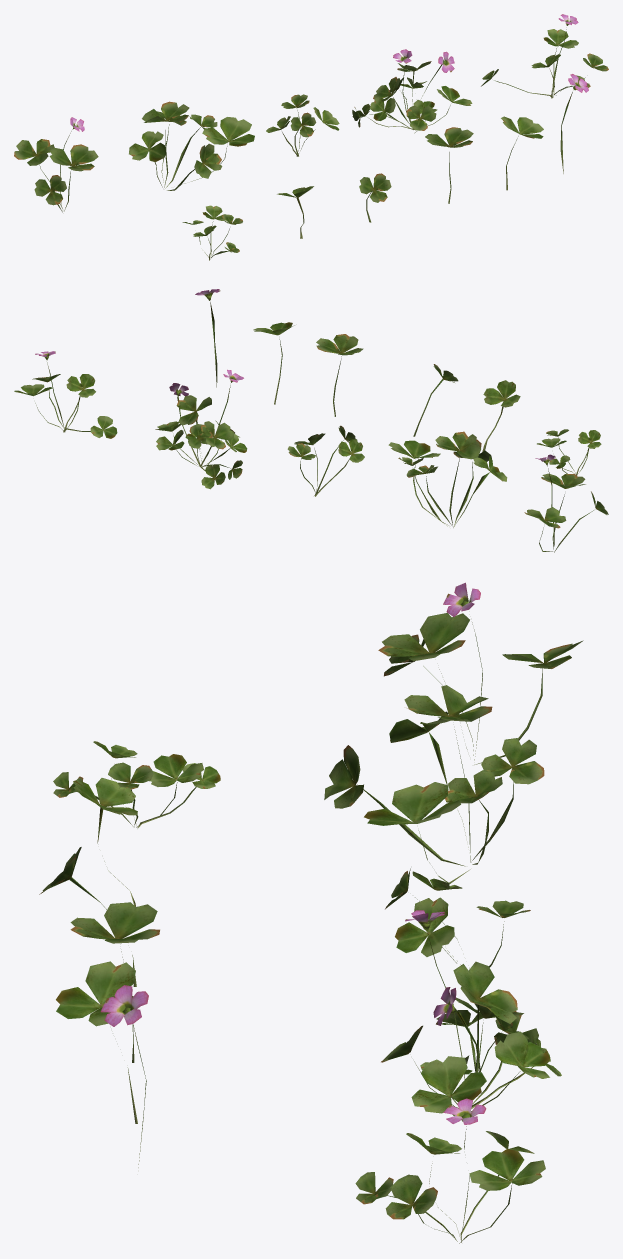
Rendered from shrub.glb.
The picture shows the model from 3 angles, top to bottom: view 1: azimuth 30°, elevation 25°; view 2: azimuth 150°, elevation 25°; view 3: azimuth 270°, elevation 25°; orthographic projection. The views are drawn at different scales.
Visible parts, largest first — view 1: shrub_sorrel_01_b, shrub_sorrel_01_d, shrub_sorrel_01_a, shrub_sorrel_01_e, shrub_sorrel_01_c, shrub_sorrel_01_f, shrub_sorrel_01_i, shrub_sorrel_01_h, shrub_sorrel_01_j, shrub_sorrel_01_k; view 2: shrub_sorrel_01_d, shrub_sorrel_01_b, shrub_sorrel_01_e, shrub_sorrel_01_a, shrub_sorrel_01_c, shrub_sorrel_01_f, shrub_sorrel_01_i, shrub_sorrel_01_g, shrub_sorrel_01_j; view 3: shrub_sorrel_01_b, shrub_sorrel_01_d, shrub_sorrel_01_e, shrub_sorrel_01_a, shrub_sorrel_01_f, shrub_sorrel_01_c, shrub_sorrel_01_j, shrub_sorrel_01_i, shrub_sorrel_01_g, shrub_sorrel_01_k.
Part boxes in pixels (<box>): shrub_sorrel_01_b: <box>129,101,254,190</box>; shrub_sorrel_01_d: <box>352,49,472,133</box>; shrub_sorrel_01_a: <box>14,117,98,212</box>; shrub_sorrel_01_e: <box>481,14,608,98</box>; shrub_sorrel_01_c: <box>266,94,339,156</box>; shrub_sorrel_01_f: <box>182,205,242,260</box>; shrub_sorrel_01_i: <box>425,127,473,203</box>; shrub_sorrel_01_h: <box>359,173,391,222</box>; shrub_sorrel_01_j: <box>501,116,543,190</box>; shrub_sorrel_01_k: <box>560,74,588,173</box>; shrub_sorrel_01_d: <box>155,369,247,489</box>; shrub_sorrel_01_b: <box>388,431,507,527</box>; shrub_sorrel_01_e: <box>14,351,117,438</box>; shrub_sorrel_01_a: <box>524,454,608,552</box>; shrub_sorrel_01_c: <box>287,425,364,496</box>; shrub_sorrel_01_f: <box>537,429,601,475</box>; shrub_sorrel_01_i: <box>316,334,363,416</box>; shrub_sorrel_01_g: <box>482,380,520,451</box>; shrub_sorrel_01_j: <box>253,322,294,404</box>; shrub_sorrel_01_b: <box>324,685,544,884</box>; shrub_sorrel_01_d: <box>381,910,561,1115</box>; shrub_sorrel_01_e: <box>355,1098,545,1243</box>; shrub_sorrel_01_a: <box>378,582,583,764</box>; shrub_sorrel_01_f: <box>53,741,220,828</box>; shrub_sorrel_01_c: <box>385,868,530,968</box>; shrub_sorrel_01_j: <box>56,961,137,1123</box>; shrub_sorrel_01_i: <box>70,902,159,1062</box>; shrub_sorrel_01_g: <box>73,778,137,906</box>; shrub_sorrel_01_k: <box>100,985,148,1167</box>.
Size of the model in its own units: 0.3521 by 0.058 by 0.1464.
Materials: 1 (1 with a texture image).
